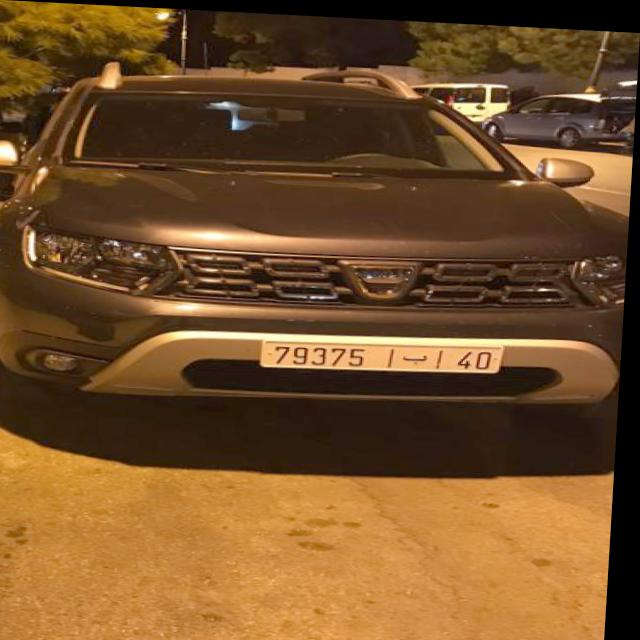License-Plate: (264, 338, 507, 367)
